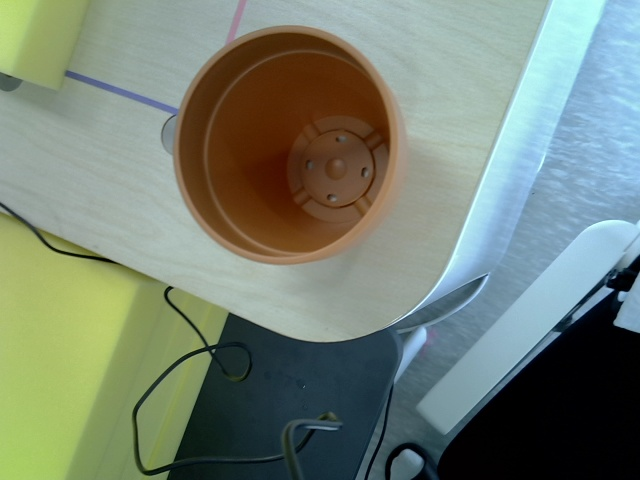화분: (170, 23, 409, 266)
